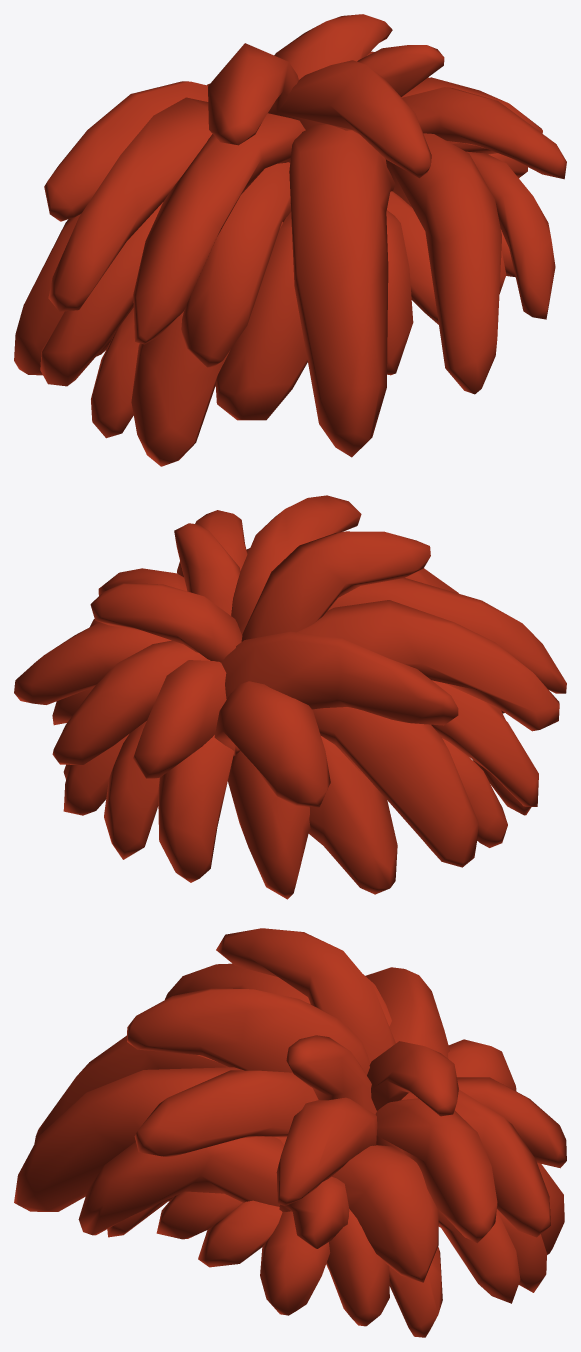
Rendered from Dreadlocks.fbx.
3 views of the same model, one above another, from view 1: azimuth 30°, elevation 25°; view 2: azimuth 150°, elevation 25°; view 3: azimuth 270°, elevation 25° (orthographic). The views are drawn at different scales.
Parts seen in each view (by area): view 1: dreadlocks; view 2: dreadlocks; view 3: dreadlocks.
Part boxes in pixels (<box>): dreadlocks: <box>14,14,566,466</box>; dreadlocks: <box>14,495,566,899</box>; dreadlocks: <box>14,928,566,1337</box>.
Size of the model in its own units: 0.6317 by 0.4039 by 0.6281.
